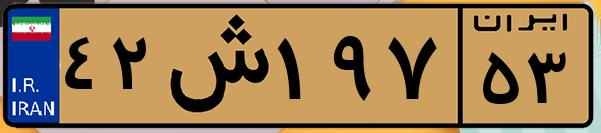1: (270, 28, 330, 110)
2: (110, 28, 158, 98)
3: (525, 38, 570, 115)
4: (57, 26, 110, 100)
5: (475, 38, 525, 113)
7: (385, 28, 445, 110)
9: (330, 28, 385, 110)
ش: (158, 12, 270, 120)
